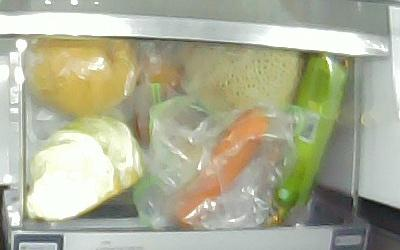cabbage: (25, 116, 143, 220)
carrot_vinyl: (175, 109, 269, 224)
melon_vinyl: (187, 40, 304, 112)
pear_vinyl: (28, 38, 138, 116)
zucchini_vinyl: (266, 54, 350, 230)
